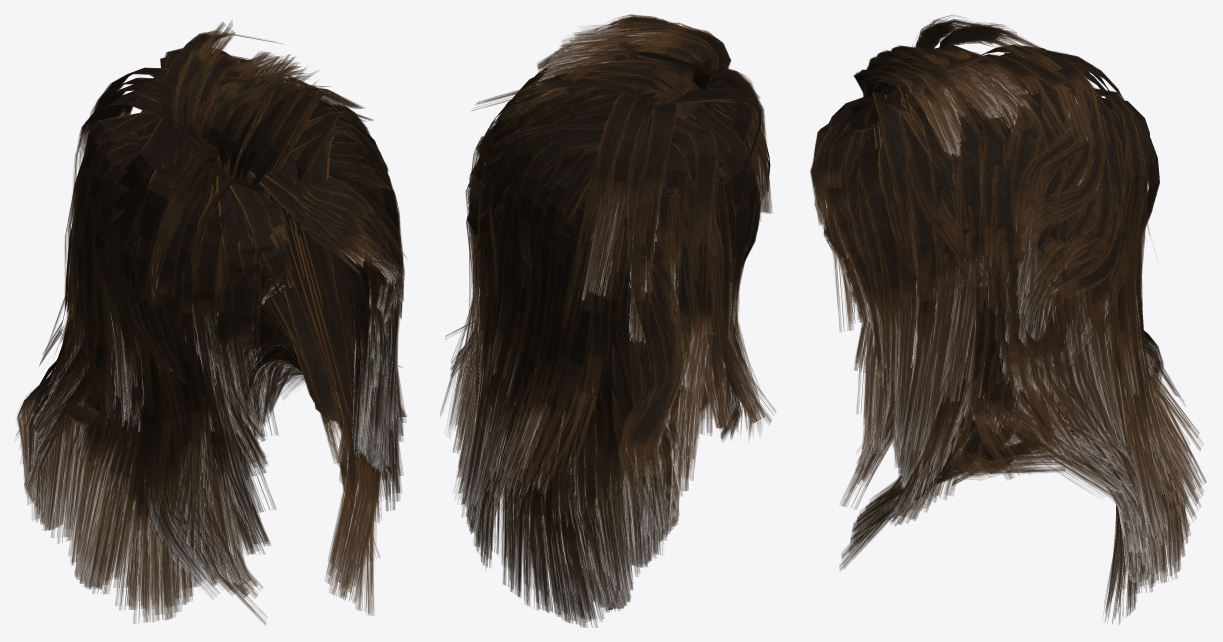
File: feather-cc-by.glb
The picture shows the model from 3 angles, left to right: view 1: azimuth 30°, elevation 25°; view 2: azimuth 150°, elevation 25°; view 3: azimuth 270°, elevation 25°; orthographic projection. The views are drawn at different scales.
Parts seen in each view (by area): view 1: Node; view 2: Node; view 3: Node.
Part boxes in pixels (x1,y1,x2,y2): Node: (15,20,407,624); Node: (440,14,775,627); Node: (810,15,1206,624).
Bounding box in the file's own units: 2.95 × 4.93 × 2.96.
1 material, 1 textured.
